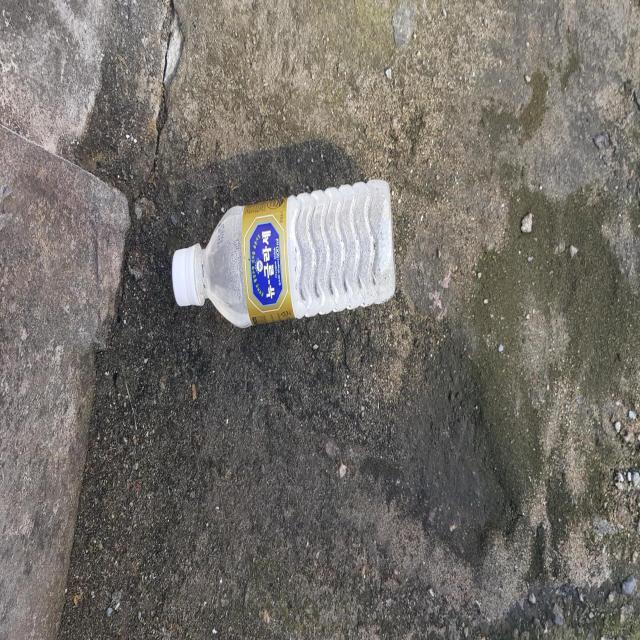plastic: (172, 179, 396, 327)
